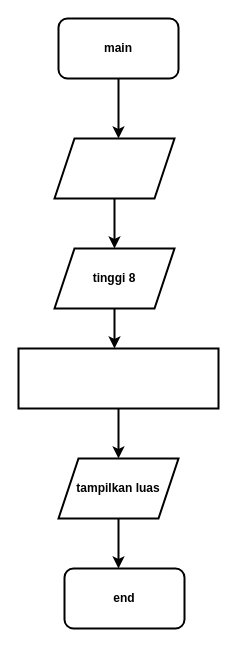
Image size: 236x646. Some labels were removed from this diagram. The shapes that lost their labels are listed below. From the top down, each one's centre as x and y in pixels, then its label:
At (x=114, y=168): "alas3".
At (x=118, y=378): "luas=1/2*(alas *tinggi) luas=1/2* (3,8)".
